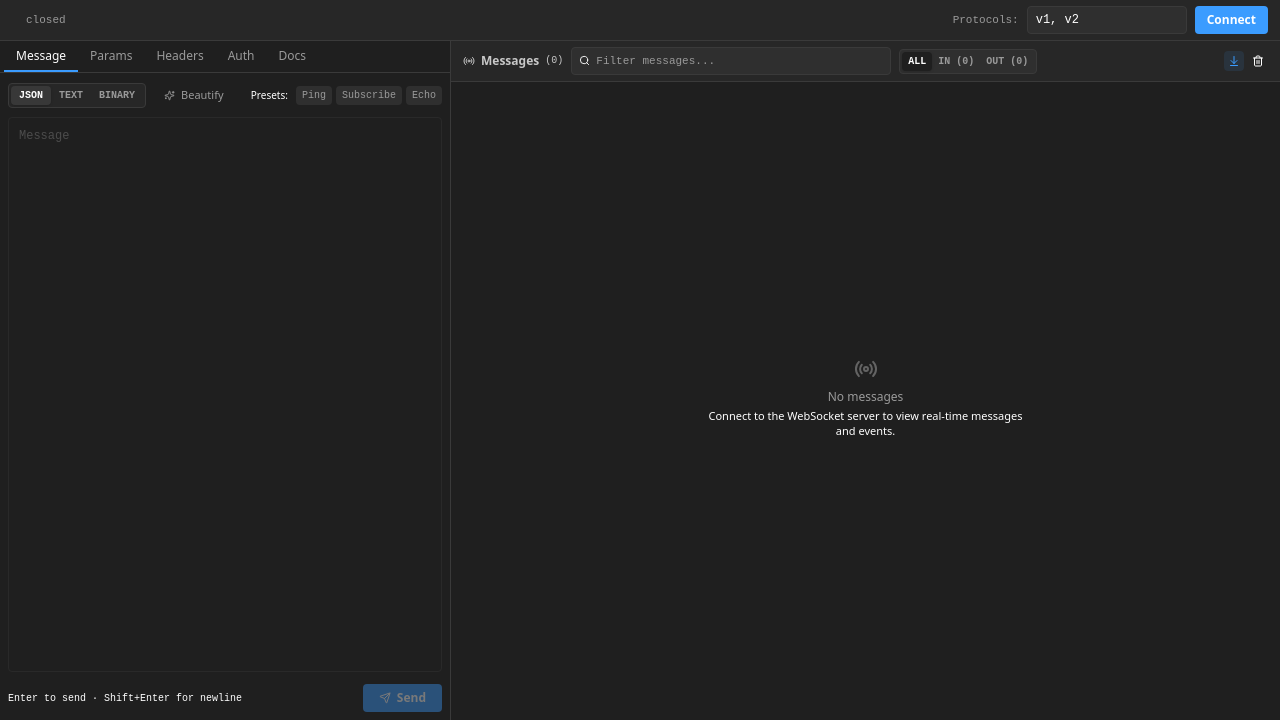
WsPanel › switches tabs between Message, Params, Headers, Auth, and Docs
Click Params tab
Click the button titled "Params" at (111, 56), box [78, 41, 144, 72]
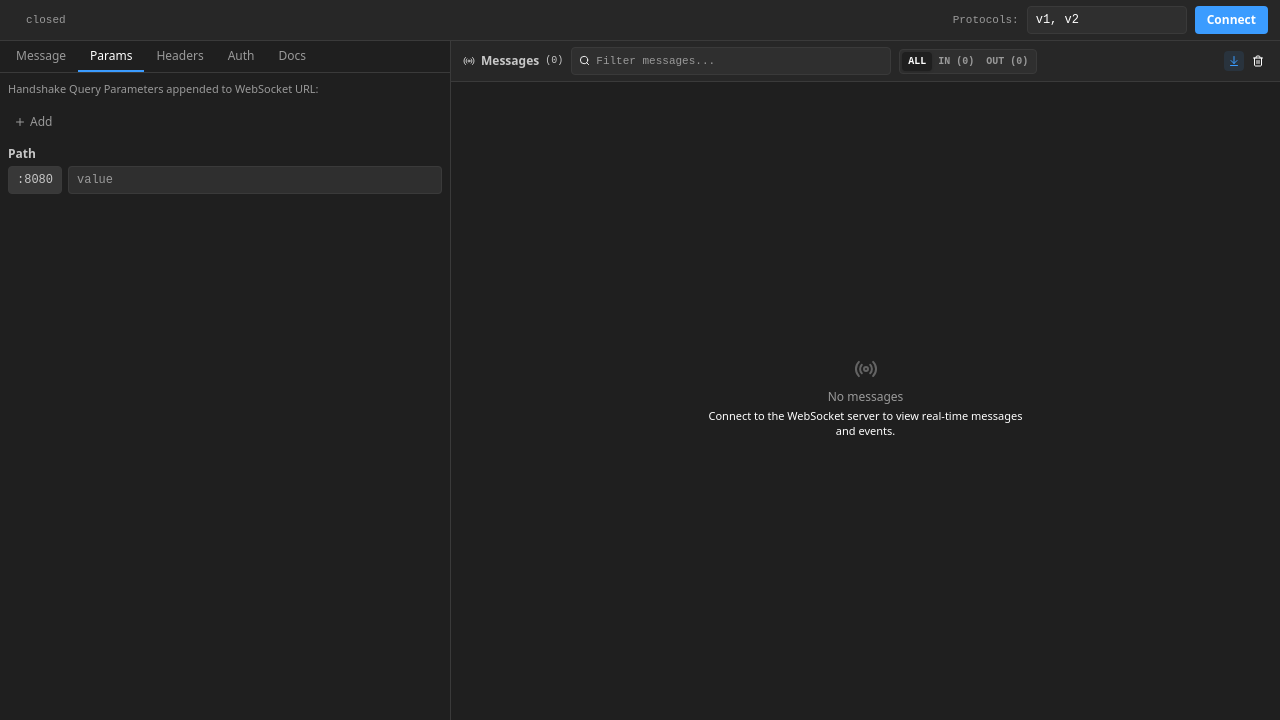
Check: the text "Handshake Query Parameters appended to WebSocket URL:" is shown, box [8, 81, 319, 96]
Click Headers tab
Click the button titled "Headers" at (180, 56), box [144, 41, 216, 72]
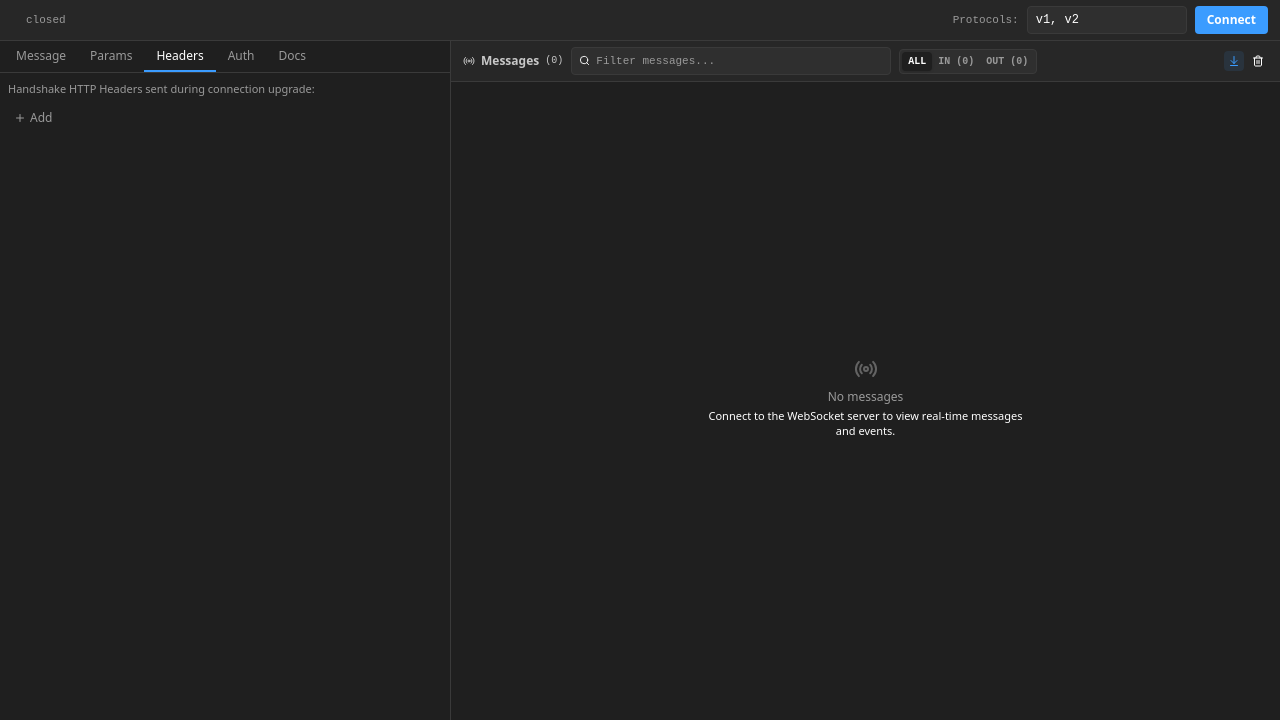
Check: the text "Handshake HTTP Headers sent during connection upgrade:" is shown, box [8, 81, 315, 96]
Click Auth tab
Click the button titled "Auth" at (241, 56), box [216, 41, 266, 72]
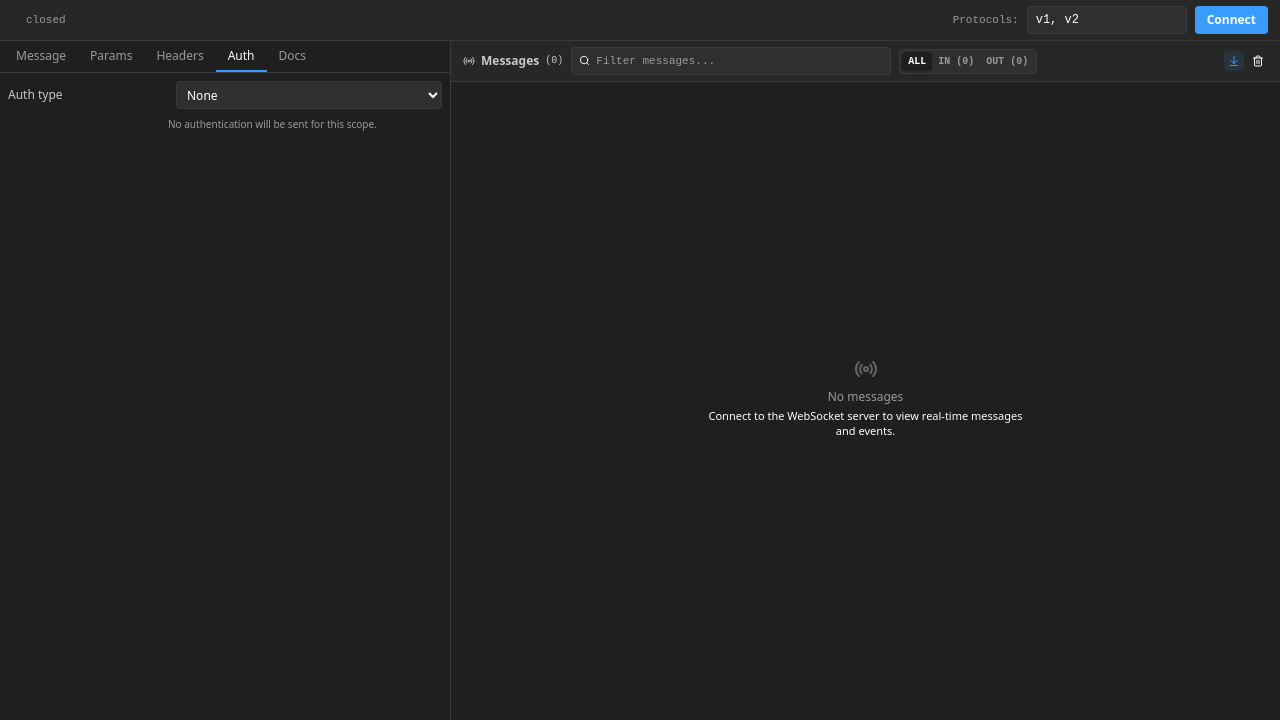
Check: the text "No authentication will be sent for this scope." is shown, box [168, 117, 377, 131]
Click Docs tab
Click the button titled "Docs" at (292, 56), box [266, 41, 318, 72]
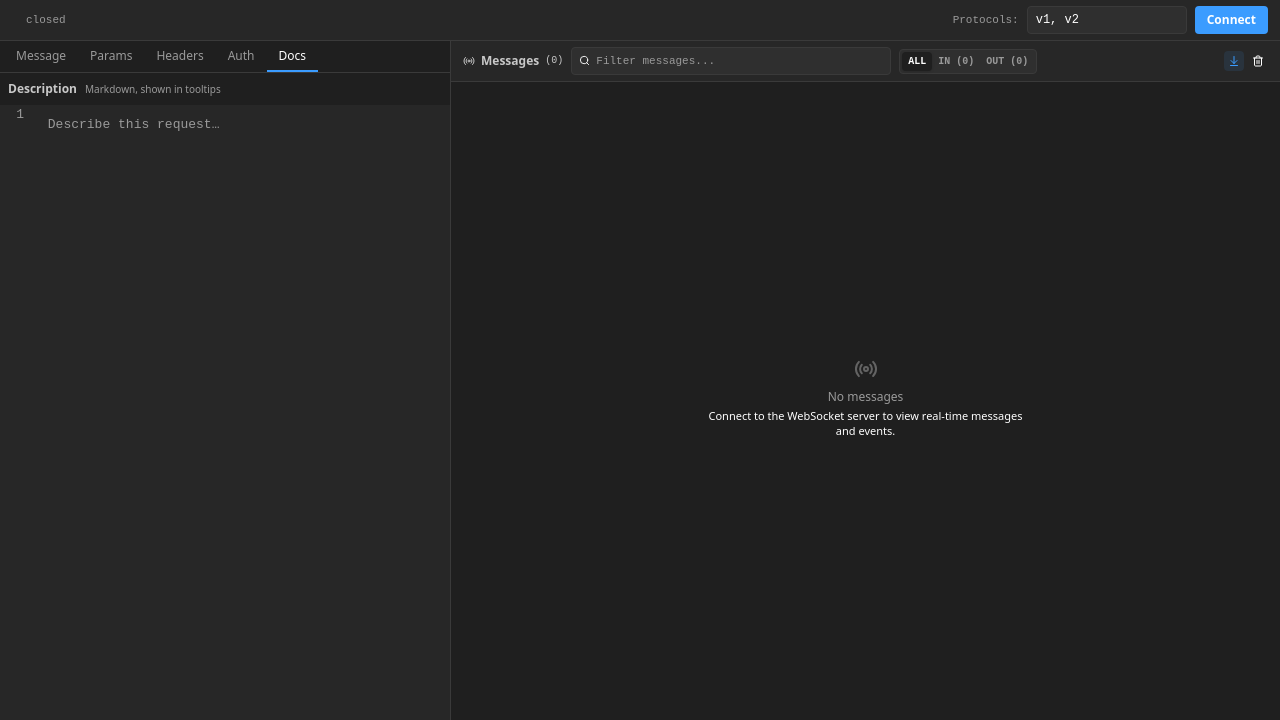
Check: the text "Description" is shown, box [8, 81, 77, 97]
Click Message tab
Click the button titled "Message" at (41, 56), box [4, 41, 78, 72]
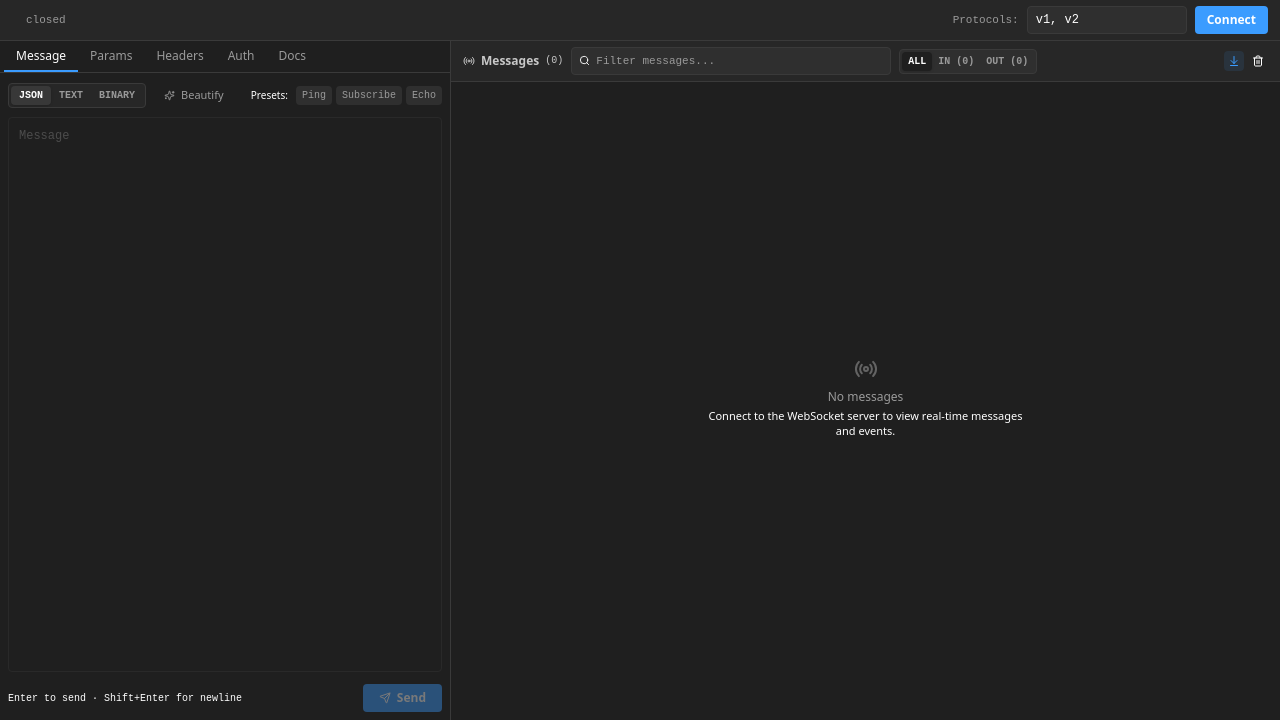
Check: the text box with placeholder "Message" is shown, box [8, 117, 442, 672]
